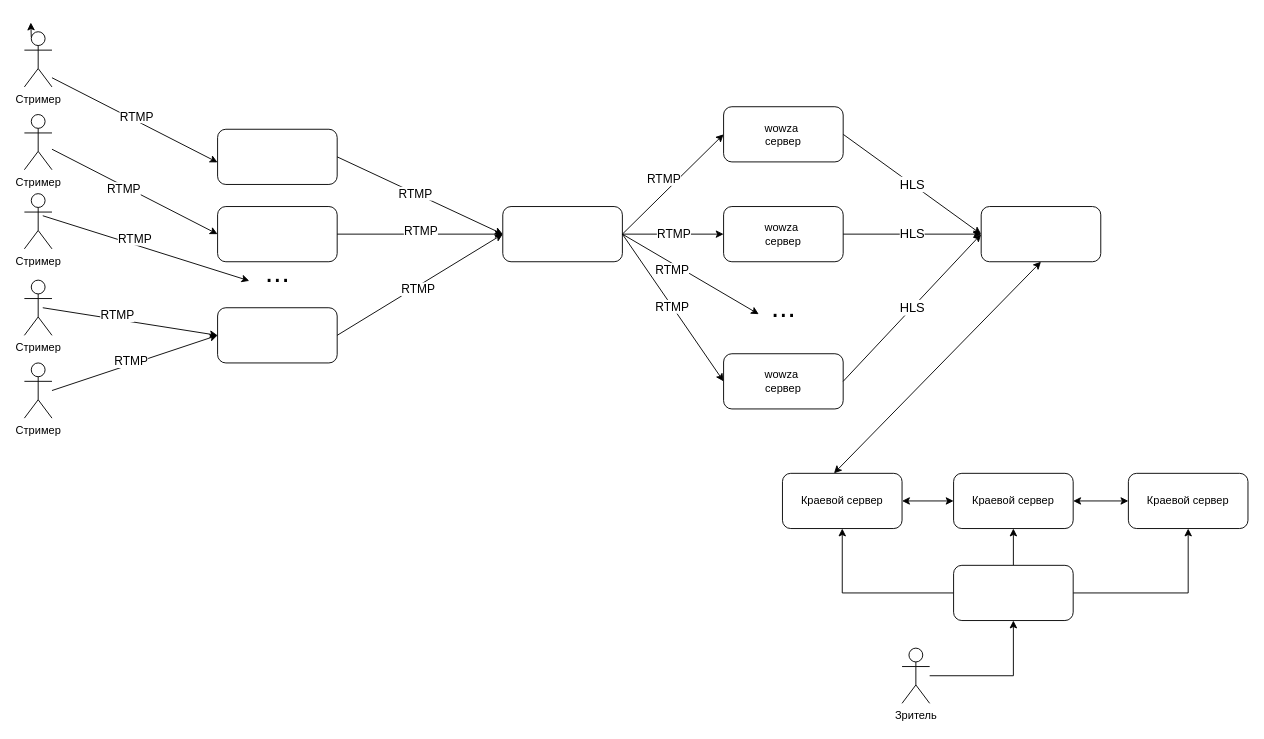
Some shapes in this 1264 by 739 pixel diagram are drawn without their labels. The box of each missing label's shape, as (x1, y1, x2, y2) in pixels:
Ingest-сервер (Азия): (217, 206, 337, 262)
Ingest-сервер (Европа): (217, 128, 337, 184)
Ingest-сервер (Северная Америка): (217, 307, 337, 363)
NGINX Geo-based balancer: (953, 564, 1073, 621)
NGINX L7 Balancer: (502, 206, 622, 262)
Краевой сервер (основной): (980, 206, 1101, 262)
